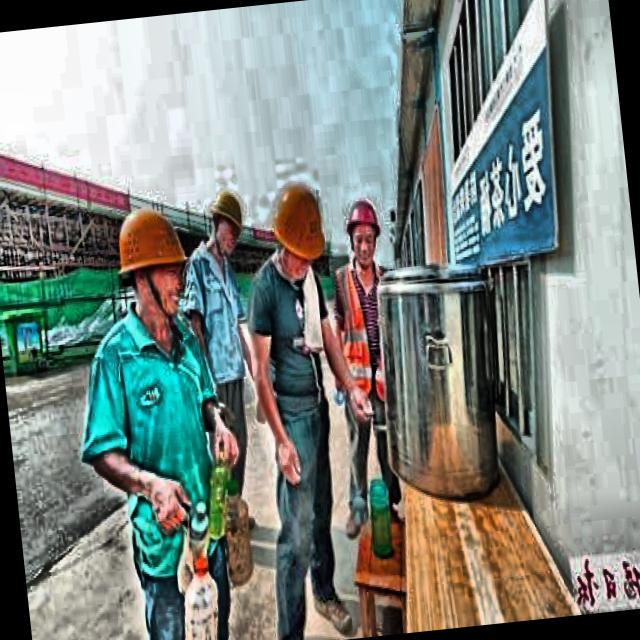helmet: (104, 192, 200, 336), (263, 172, 334, 288), (204, 180, 250, 260), (341, 191, 386, 269)
